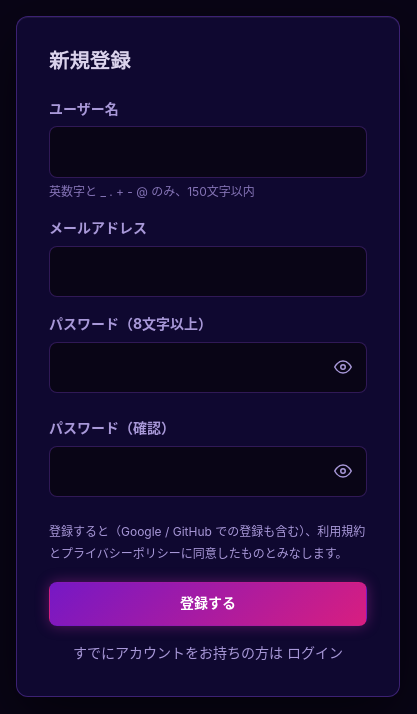
Test: RegisterPage › 送信中はボタンが「登録中...」になる
In the field labelled "ユーザー名": (208, 152) [49, 126, 367, 178], type "bob"
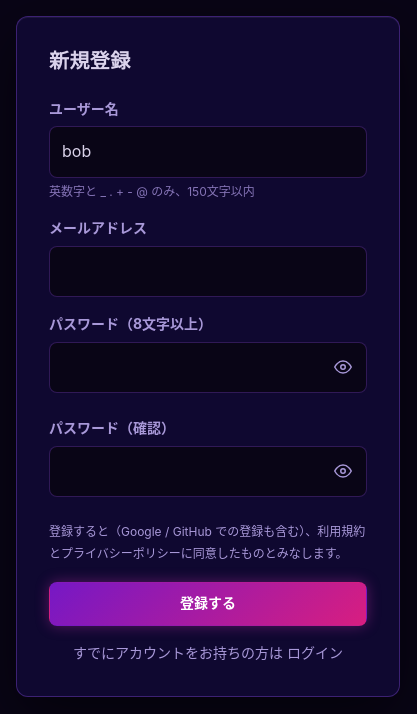
In the field labelled "メールアドレス": (208, 271) [49, 246, 367, 297], type "bob@example.com"
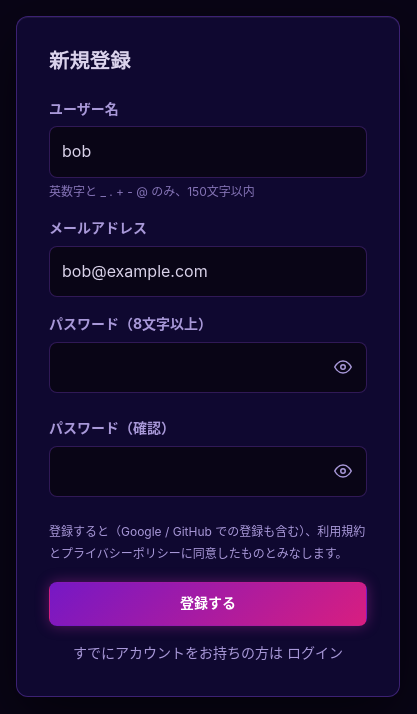
In the password field labelled "パスワード（8文字以上）": (208, 367) [49, 342, 367, 393], type "password123"
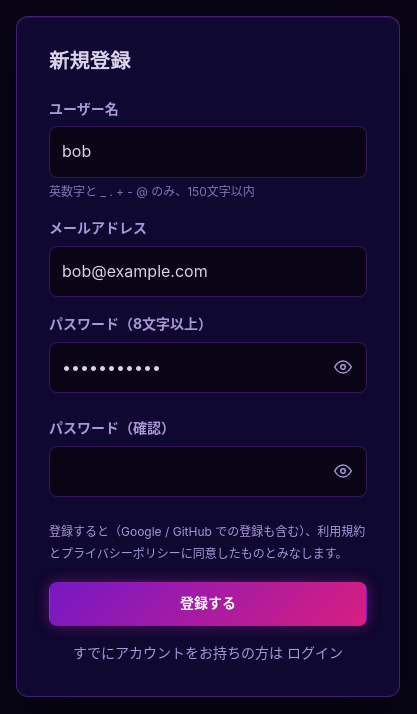
In the password field labelled "パスワード（確認）": (208, 471) [49, 446, 367, 497], type "password123"
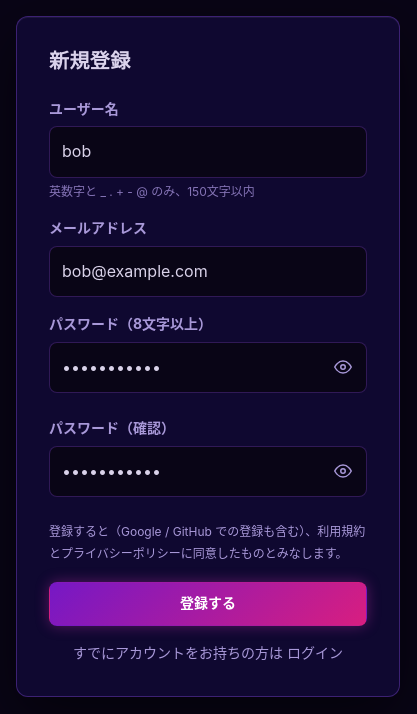
Click the button "登録する": click(208, 604) [49, 582, 367, 626]
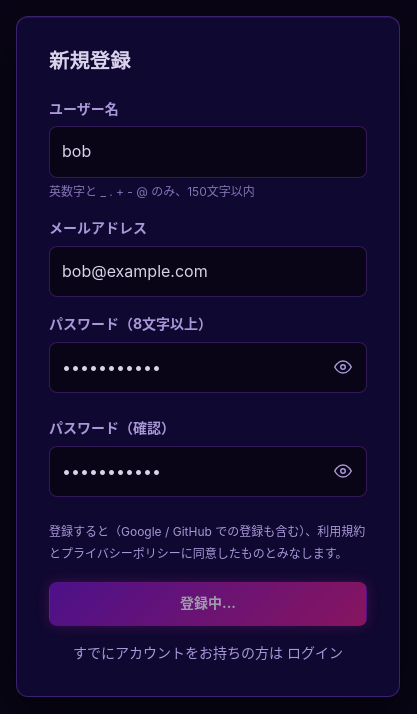
Expected: the button "登録中..." is disabled, [49, 582, 367, 626]
